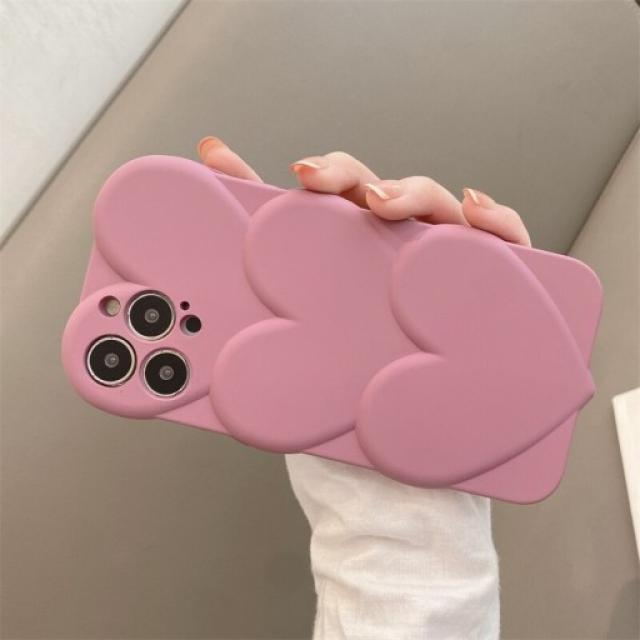lens: (80, 285, 205, 404)
phone: (53, 151, 613, 509)
